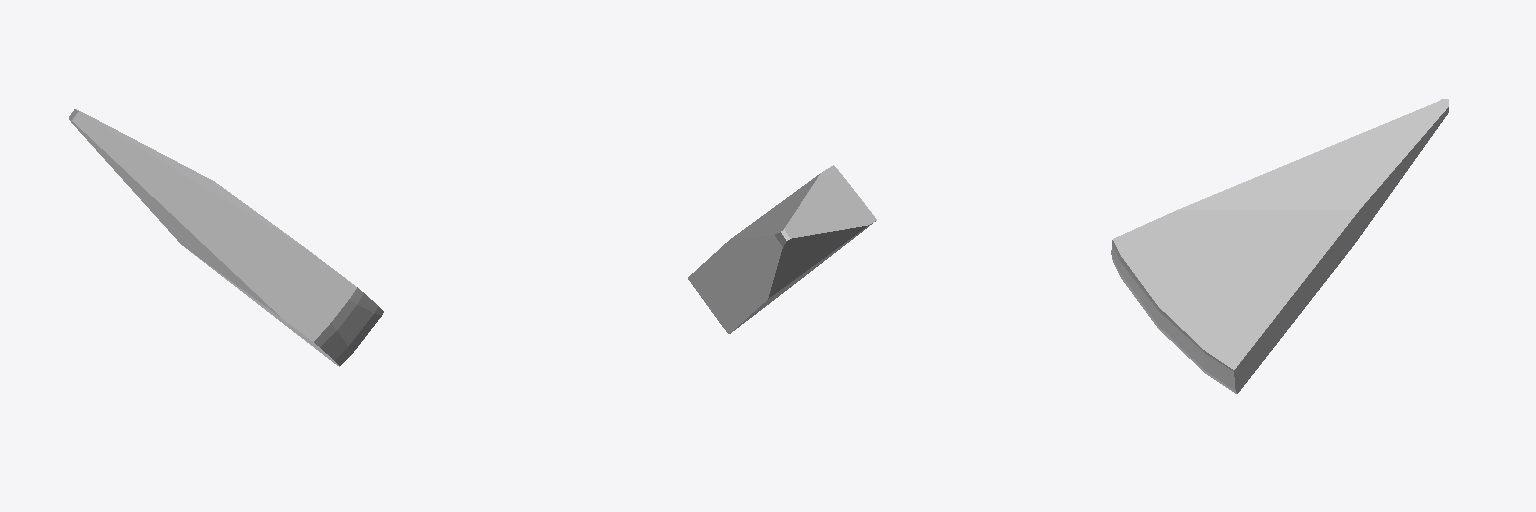
The model's file is pie_piece.obj.
3 views of the same model, side by side, from view 1: azimuth 30°, elevation 25°; view 2: azimuth 150°, elevation 25°; view 3: azimuth 270°, elevation 25° (orthographic).
Parts seen in each view (by area): view 1: obj_0; view 2: obj_0; view 3: obj_0.
Part boxes in pixels (left/top/right/bottom): obj_0: left=69, top=109, right=383, bottom=366; obj_0: left=688, top=165, right=876, bottom=333; obj_0: left=1111, top=99, right=1448, bottom=393.
Size of the model in its own units: 15.76 by 15.91 by 22.25.